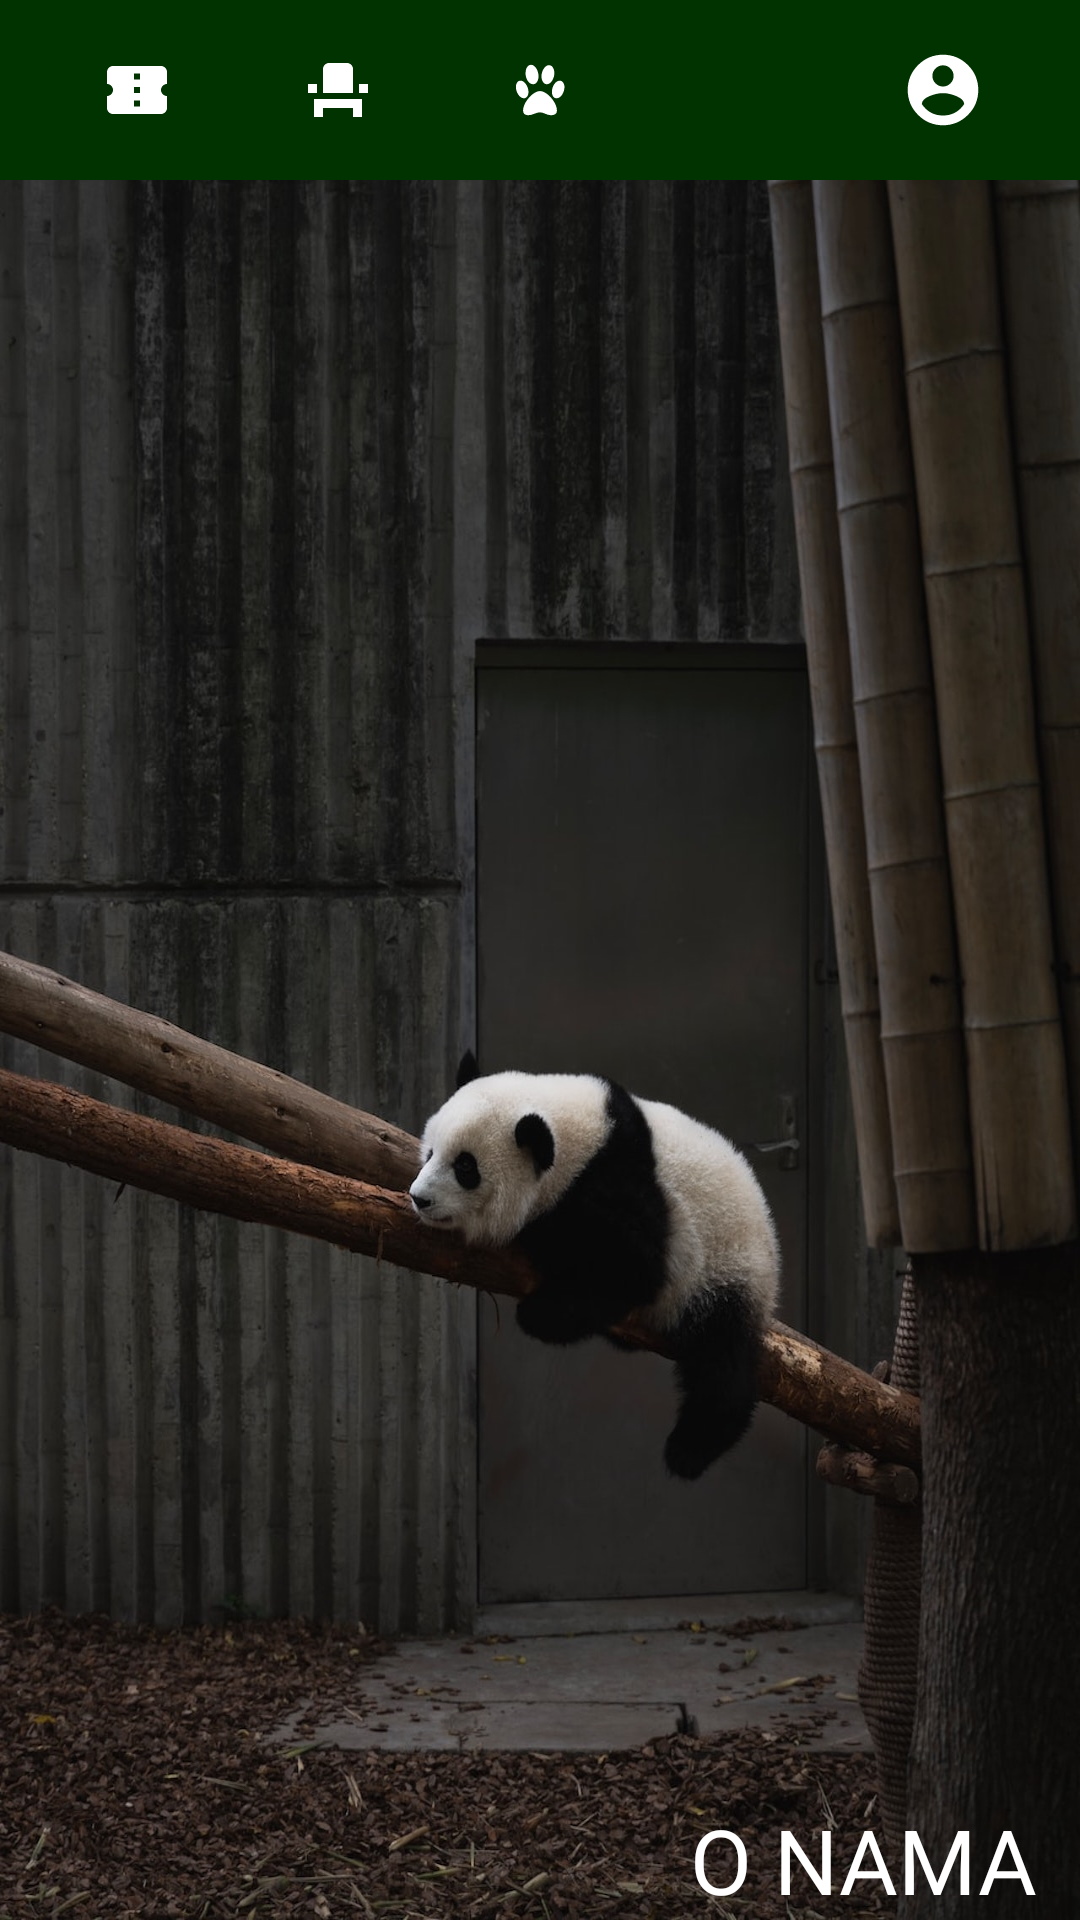

Screen size 1080px x 1920px. Icon name, then its box in pixels as (x1=x1, y1=y1, x2=x2, y2=y2):
account: (x1=907, y1=54, x2=979, y2=126)
confirmation number: (x1=107, y1=66, x2=167, y2=114)
event seat: (x1=308, y1=63, x2=368, y2=117)
pets: (x1=516, y1=64, x2=565, y2=116)
